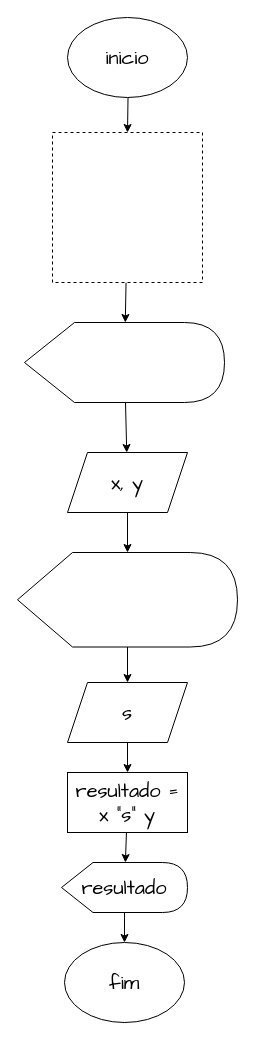
Image size: 255x1040. Some labels were removed from this diagram. The centre of each missing label's shape, as x and y in pixels:
"escolha a operação: *, +, -, /" belongs at (127,599).
"Escolha os números" belongs at (124,362).
"int: x, y resultado char: s" belongs at (127,207).
